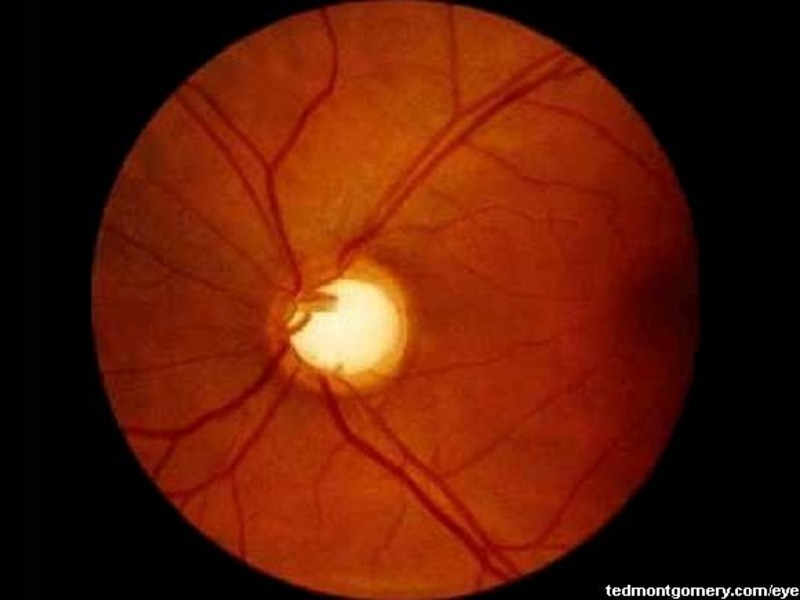Optic Cup: (287, 277, 398, 371)
Optic Disc: (266, 255, 422, 395)
